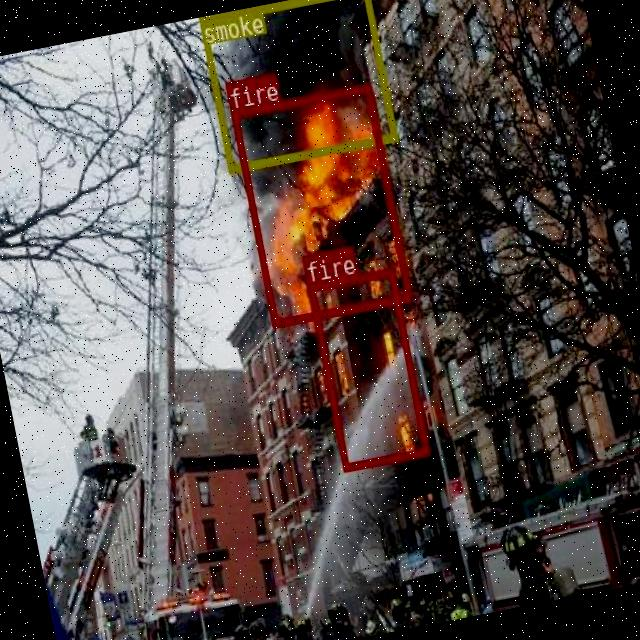fire: (230, 84, 412, 326), (306, 266, 429, 470)
smoke: (197, 0, 395, 171)
